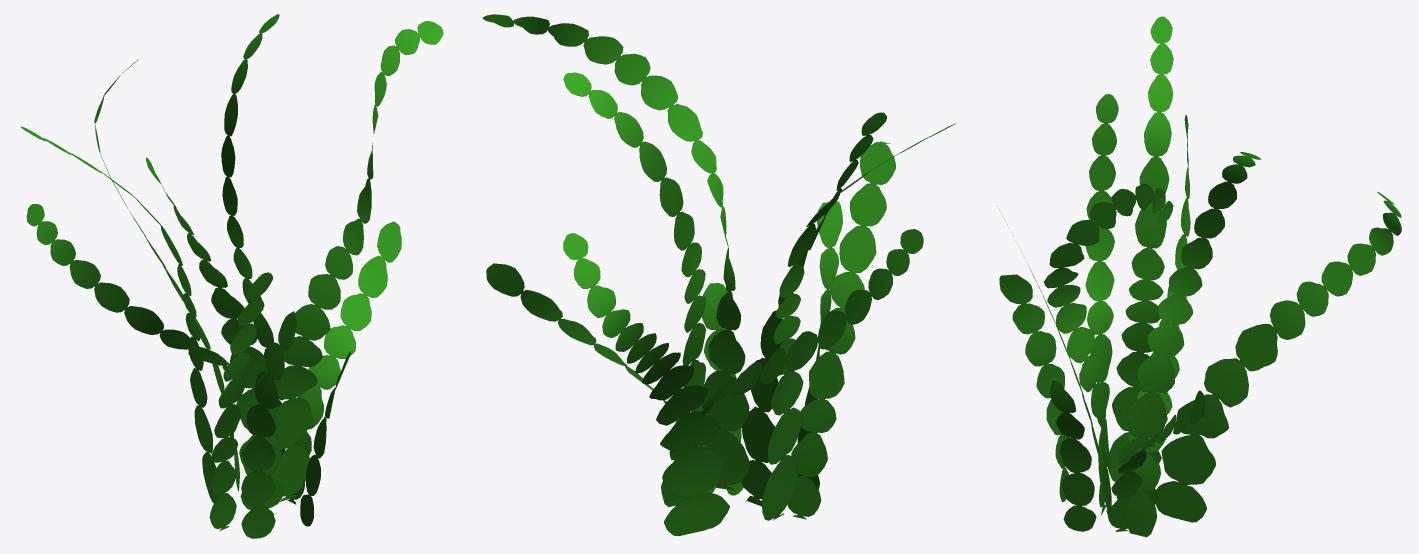
Rendered from 17-Halimeda.fbx.
3 renders of one model, left to right at view 1: azimuth 30°, elevation 25°; view 2: azimuth 150°, elevation 25°; view 3: azimuth 270°, elevation 25°, orthographic. The views are drawn at different scales.
Parts seen in each view (by area): view 1: 17-Halimeda_LOD00; view 2: 17-Halimeda_LOD00; view 3: 17-Halimeda_LOD00.
Part boxes in pixels (x1,y1,x2,y2): 17-Halimeda_LOD00: (20,14,443,538); 17-Halimeda_LOD00: (482,14,956,536); 17-Halimeda_LOD00: (998,16,1401,537).
Size of the model in its own units: 43.77 by 42.36 by 38.56.
